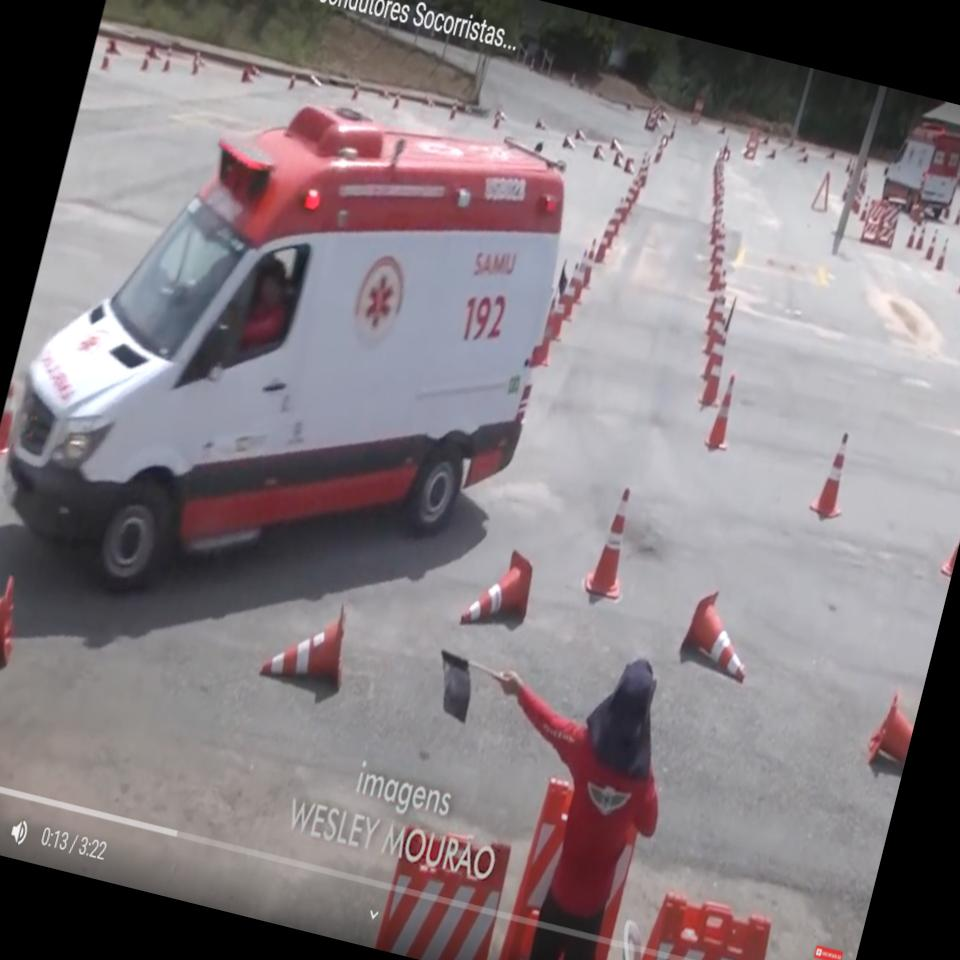bombeiro: (0, 37, 589, 679)
